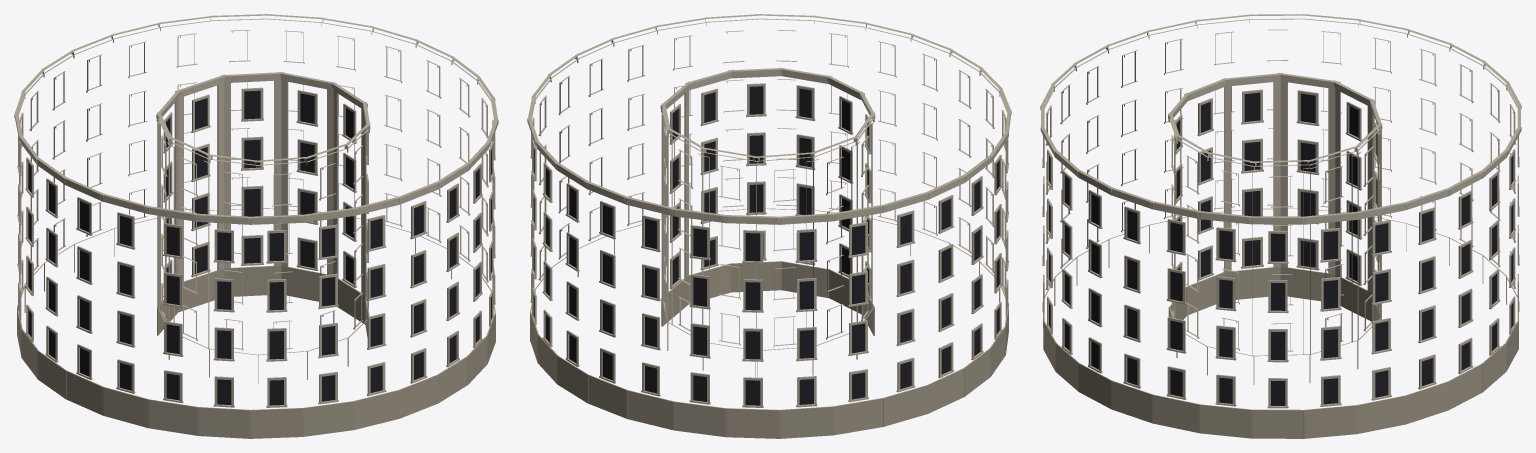
3 renders of one model, left to right at view 1: azimuth 30°, elevation 25°; view 2: azimuth 150°, elevation 25°; view 3: azimuth 270°, elevation 25°, orthographic.
Parts seen in each view (by area): view 1: detail; view 2: detail; view 3: detail.
Part boxes in pixels (left/top/right/bottom): detail: left=14, top=14, right=498, bottom=438; detail: left=527, top=14, right=1011, bottom=438; detail: left=1040, top=14, right=1521, bottom=438.
Size of the model in its own units: 35.21 by 17.84 by 35.06.
